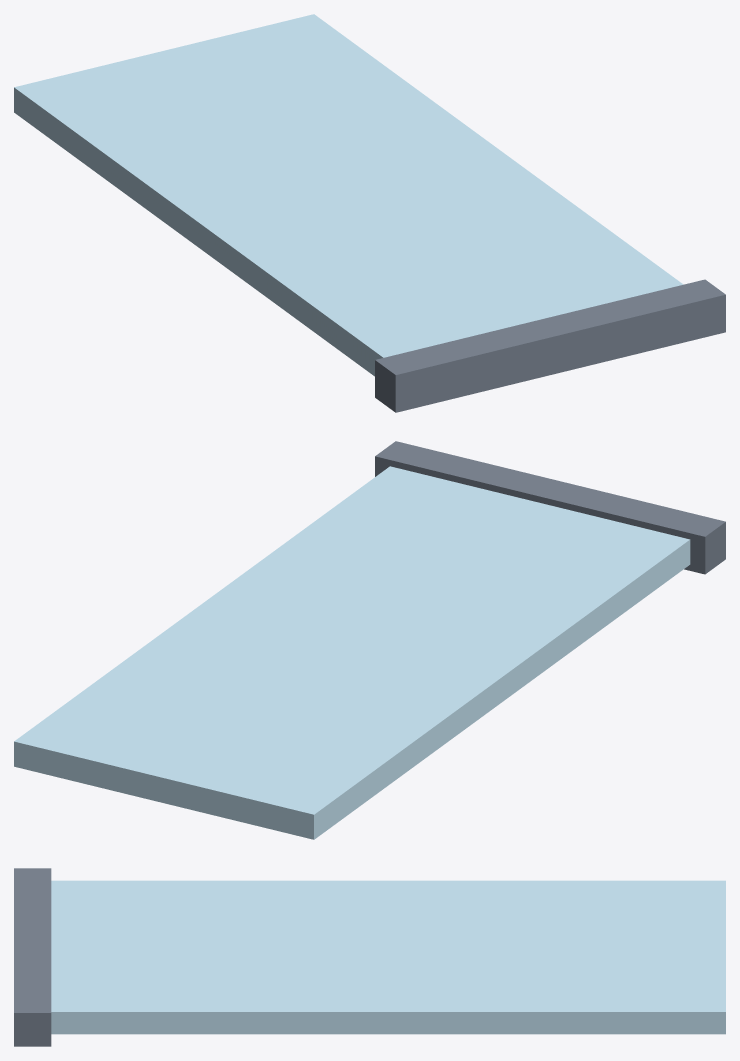
File: door_glass.glb
3 views of the same model, one above another, from view 1: azimuth 30°, elevation 25°; view 2: azimuth 150°, elevation 25°; view 3: azimuth 270°, elevation 25° (orthographic). The views are drawn at different scales.
Parts seen in each view (by area): view 1: door_0, frame_1; view 2: door_0, frame_1; view 3: door_0, frame_1.
Boxes of the visible parts, left/top/right/bottom form: door_0: left=14, top=14, right=683, bottom=376; frame_1: left=375, top=279, right=725, bottom=412; door_0: left=14, top=466, right=690, bottom=839; frame_1: left=375, top=441, right=725, bottom=574; door_0: left=51, top=880, right=725, bottom=1034; frame_1: left=14, top=868, right=51, bottom=1046.
Bounding box in the file's own units: 1.1 × 0.12 × 2.29.
